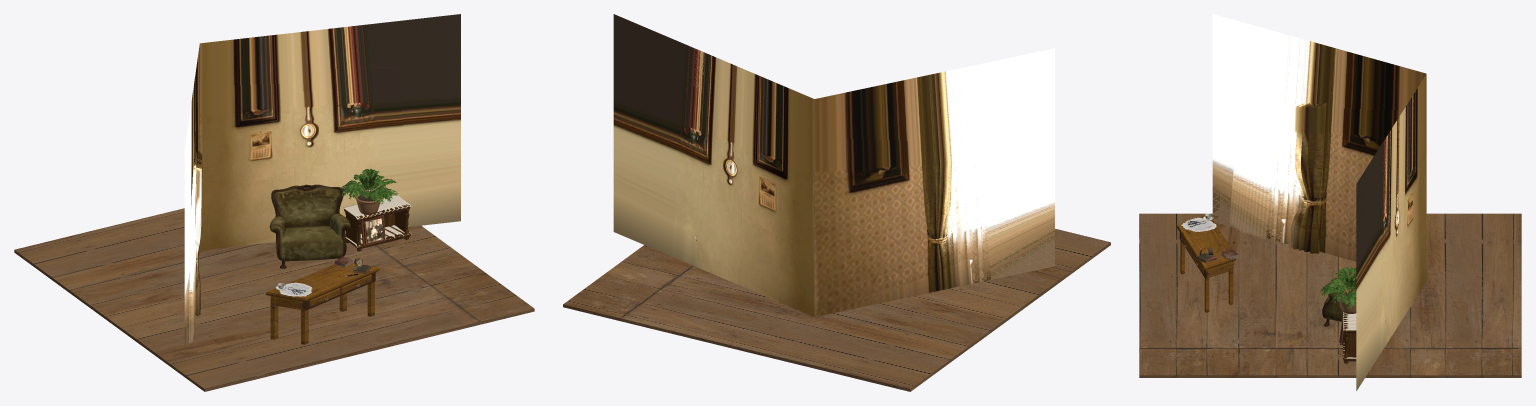
File: salotto.glb
3 views of the same model, side by side, from view 1: azimuth 30°, elevation 25°; view 2: azimuth 150°, elevation 25°; view 3: azimuth 270°, elevation 25° (orthographic). The views are drawn at different scales.
Parts seen in each view (by area): view 1: object_0013_0013_0, object_0010_0010_1, object_0000_0000_0, object_0010_0010_6, object_0010_0010_0, object_0010_0010_5, object_0001_0001_1, object_0010_0010_2, object_0010_0010_8, object_0010_0010_3, object_0010_0010_7, object_0011_0011_11; view 2: object_0010_0010_0, object_0010_0010_1, object_0013_0013_0, object_0010_0010_4; view 3: object_0013_0013_0, object_0010_0010_0, object_0010_0010_1, object_0010_0010_2, object_0010_0010_3, object_0010_0010_4, object_0001_0001_1, object_0000_0000_0, object_0009_0009_2, object_0002_Mesh.
Boxes of the visible parts, x1,y1,x2,y2 form: object_0013_0013_0: (14, 208, 534, 391); object_0010_0010_1: (199, 14, 460, 250); object_0000_0000_0: (269, 184, 350, 268); object_0010_0010_6: (329, 67, 403, 132); object_0010_0010_0: (184, 46, 199, 355); object_0010_0010_5: (233, 83, 280, 127); object_0001_0001_1: (340, 169, 397, 205); object_0010_0010_2: (189, 150, 196, 342); object_0010_0010_8: (298, 91, 319, 148); object_0010_0010_3: (195, 149, 202, 316); object_0010_0010_7: (248, 130, 272, 161); object_0011_0011_11: (343, 195, 411, 219); object_0010_0010_0: (814, 48, 1054, 316); object_0010_0010_1: (613, 14, 814, 316); object_0013_0013_0: (563, 229, 1110, 391); object_0010_0010_4: (846, 139, 909, 192); object_0013_0013_0: (1139, 213, 1521, 377); object_0010_0010_0: (1212, 14, 1426, 261); object_0010_0010_1: (1356, 74, 1426, 390); object_0010_0010_2: (1229, 103, 1326, 245); object_0010_0010_3: (1290, 104, 1325, 254); object_0010_0010_4: (1341, 108, 1398, 156); object_0001_0001_1: (1320, 267, 1356, 309); object_0000_0000_0: (1322, 275, 1356, 326); object_0009_0009_2: (1177, 222, 1212, 267); object_0002_Mesh: (1181, 217, 1216, 231).
Bounding box in the file's own units: 27.6 × 15.2 × 25.
33 materials, 17 textured.
